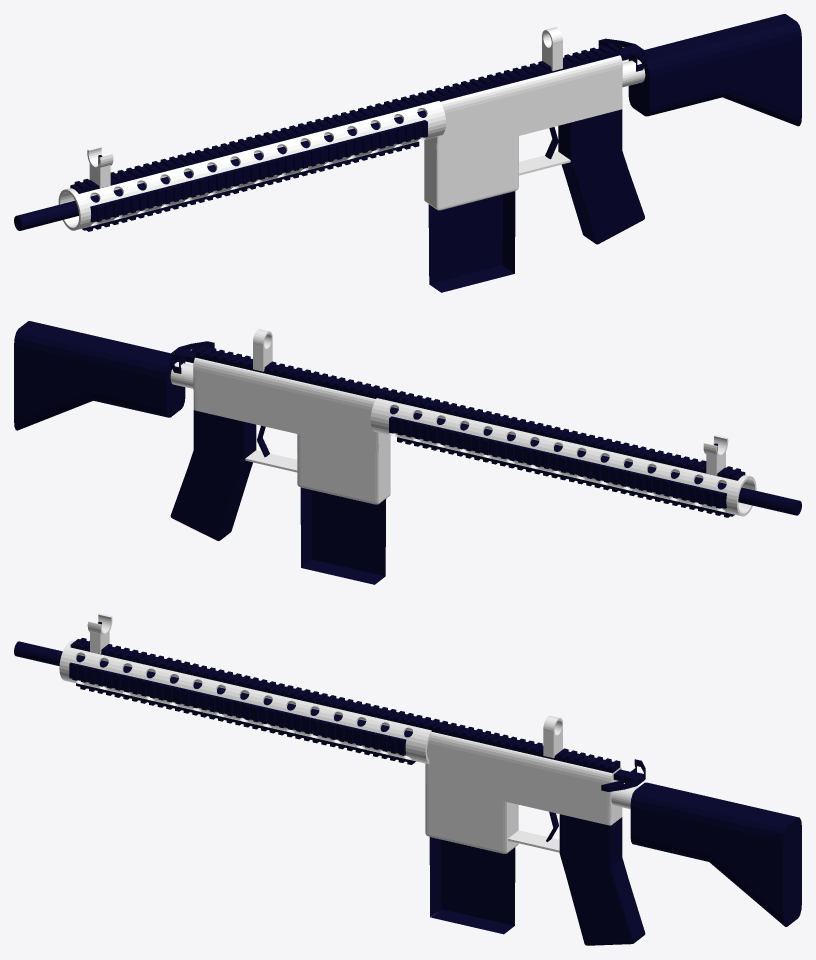
Rendered from stoner0027.obj.
3 views of the same model, one above another, from view 1: azimuth 30°, elevation 25°; view 2: azimuth 150°, elevation 25°; view 3: azimuth 330°, elevation 25° (orthographic). The views are drawn at different scales.
Parts seen in each view (by area): view 1: shoulderStock, upperReceiver, rearPistolGrip, handGuard, mag, picatinyRail, picatinyRailLeft, magWell, barrel, picatinyRailBottom, lowerTriggerGuard, handle; view 2: shoulderStock, upperReceiver, handGuard, rearPistolGrip, mag, picatinyRail, picatinyRailRight, magWell, barrel, picatinyRailBottom, lowerTriggerGuard, handle; view 3: shoulderStock, upperReceiver, rearPistolGrip, handGuard, mag, picatinyRail, picatinyRailLeft, magWell, barrel, picatinyRailBottom, lowerTriggerGuard, handle.
Boxes of the visible parts, x1,y1,x2,y2 form: shoulderStock: (628,14,801,126); upperReceiver: (424,55,622,156); rearPistolGrip: (558,109,644,244); handGuard: (58,101,446,230); mag: (428,191,515,292); picatinyRail: (70,43,619,193); picatinyRailLeft: (90,120,427,222); magWell: (424,136,518,210); barrel: (14,110,426,230); picatinyRailBottom: (82,141,419,231); lowerTriggerGuard: (519,152,570,175); handle: (598,38,645,71); shoulderStock: (14,321,185,430); upperReceiver: (193,357,390,452); handGuard: (370,398,756,516); rearPistolGrip: (170,410,256,540); mag: (300,487,386,584); picatinyRail: (195,345,745,480); picatinyRailRight: (389,416,726,508); magWell: (297,434,390,504); barrel: (390,407,801,515); picatinyRailBottom: (397,437,734,517); lowerTriggerGuard: (245,450,297,472); handle: (170,341,214,373); shoulderStock: (630,782,801,926); upperReceiver: (425,732,622,825); rearPistolGrip: (559,814,645,945); handGuard: (59,640,431,763); mag: (429,837,515,934); picatinyRail: (70,638,620,773); picatinyRailLeft: (69,662,406,755); magWell: (425,783,518,853); barrel: (14,641,412,737); picatinyRailBottom: (76,683,415,764); lowerTriggerGuard: (508,830,559,852); handle: (601,759,645,791).
Size of the model in its own units: 9.01 by 2.51 by 0.7672.
